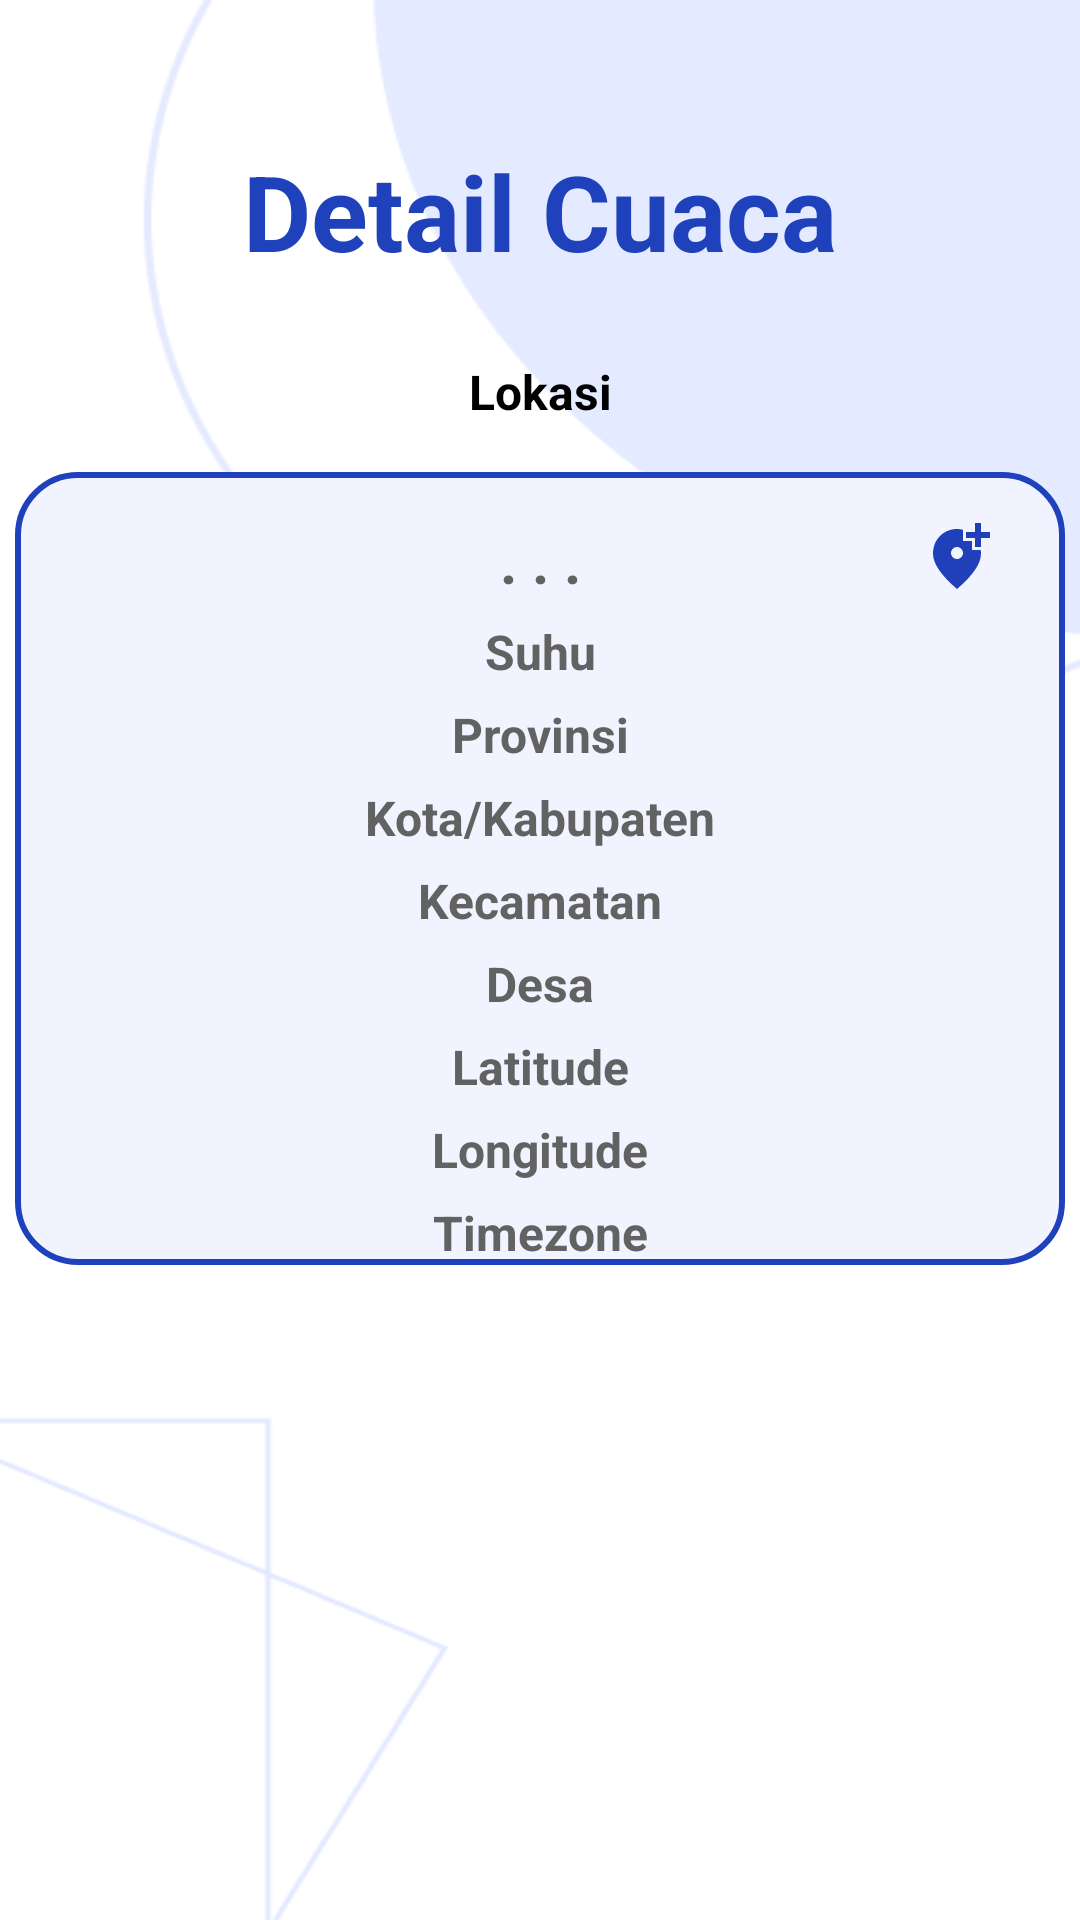

Icon bounding boxes for this 1080×1920 phone screenshot, format (x1=x1, y1=y1, x2=x2, y2=y2):
add location: (x1=933, y1=523, x2=990, y2=589)
